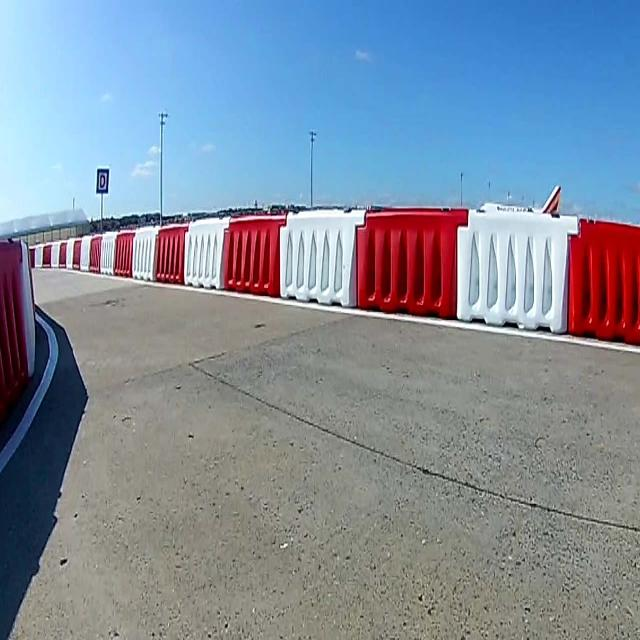durak: (96, 169, 109, 194)
